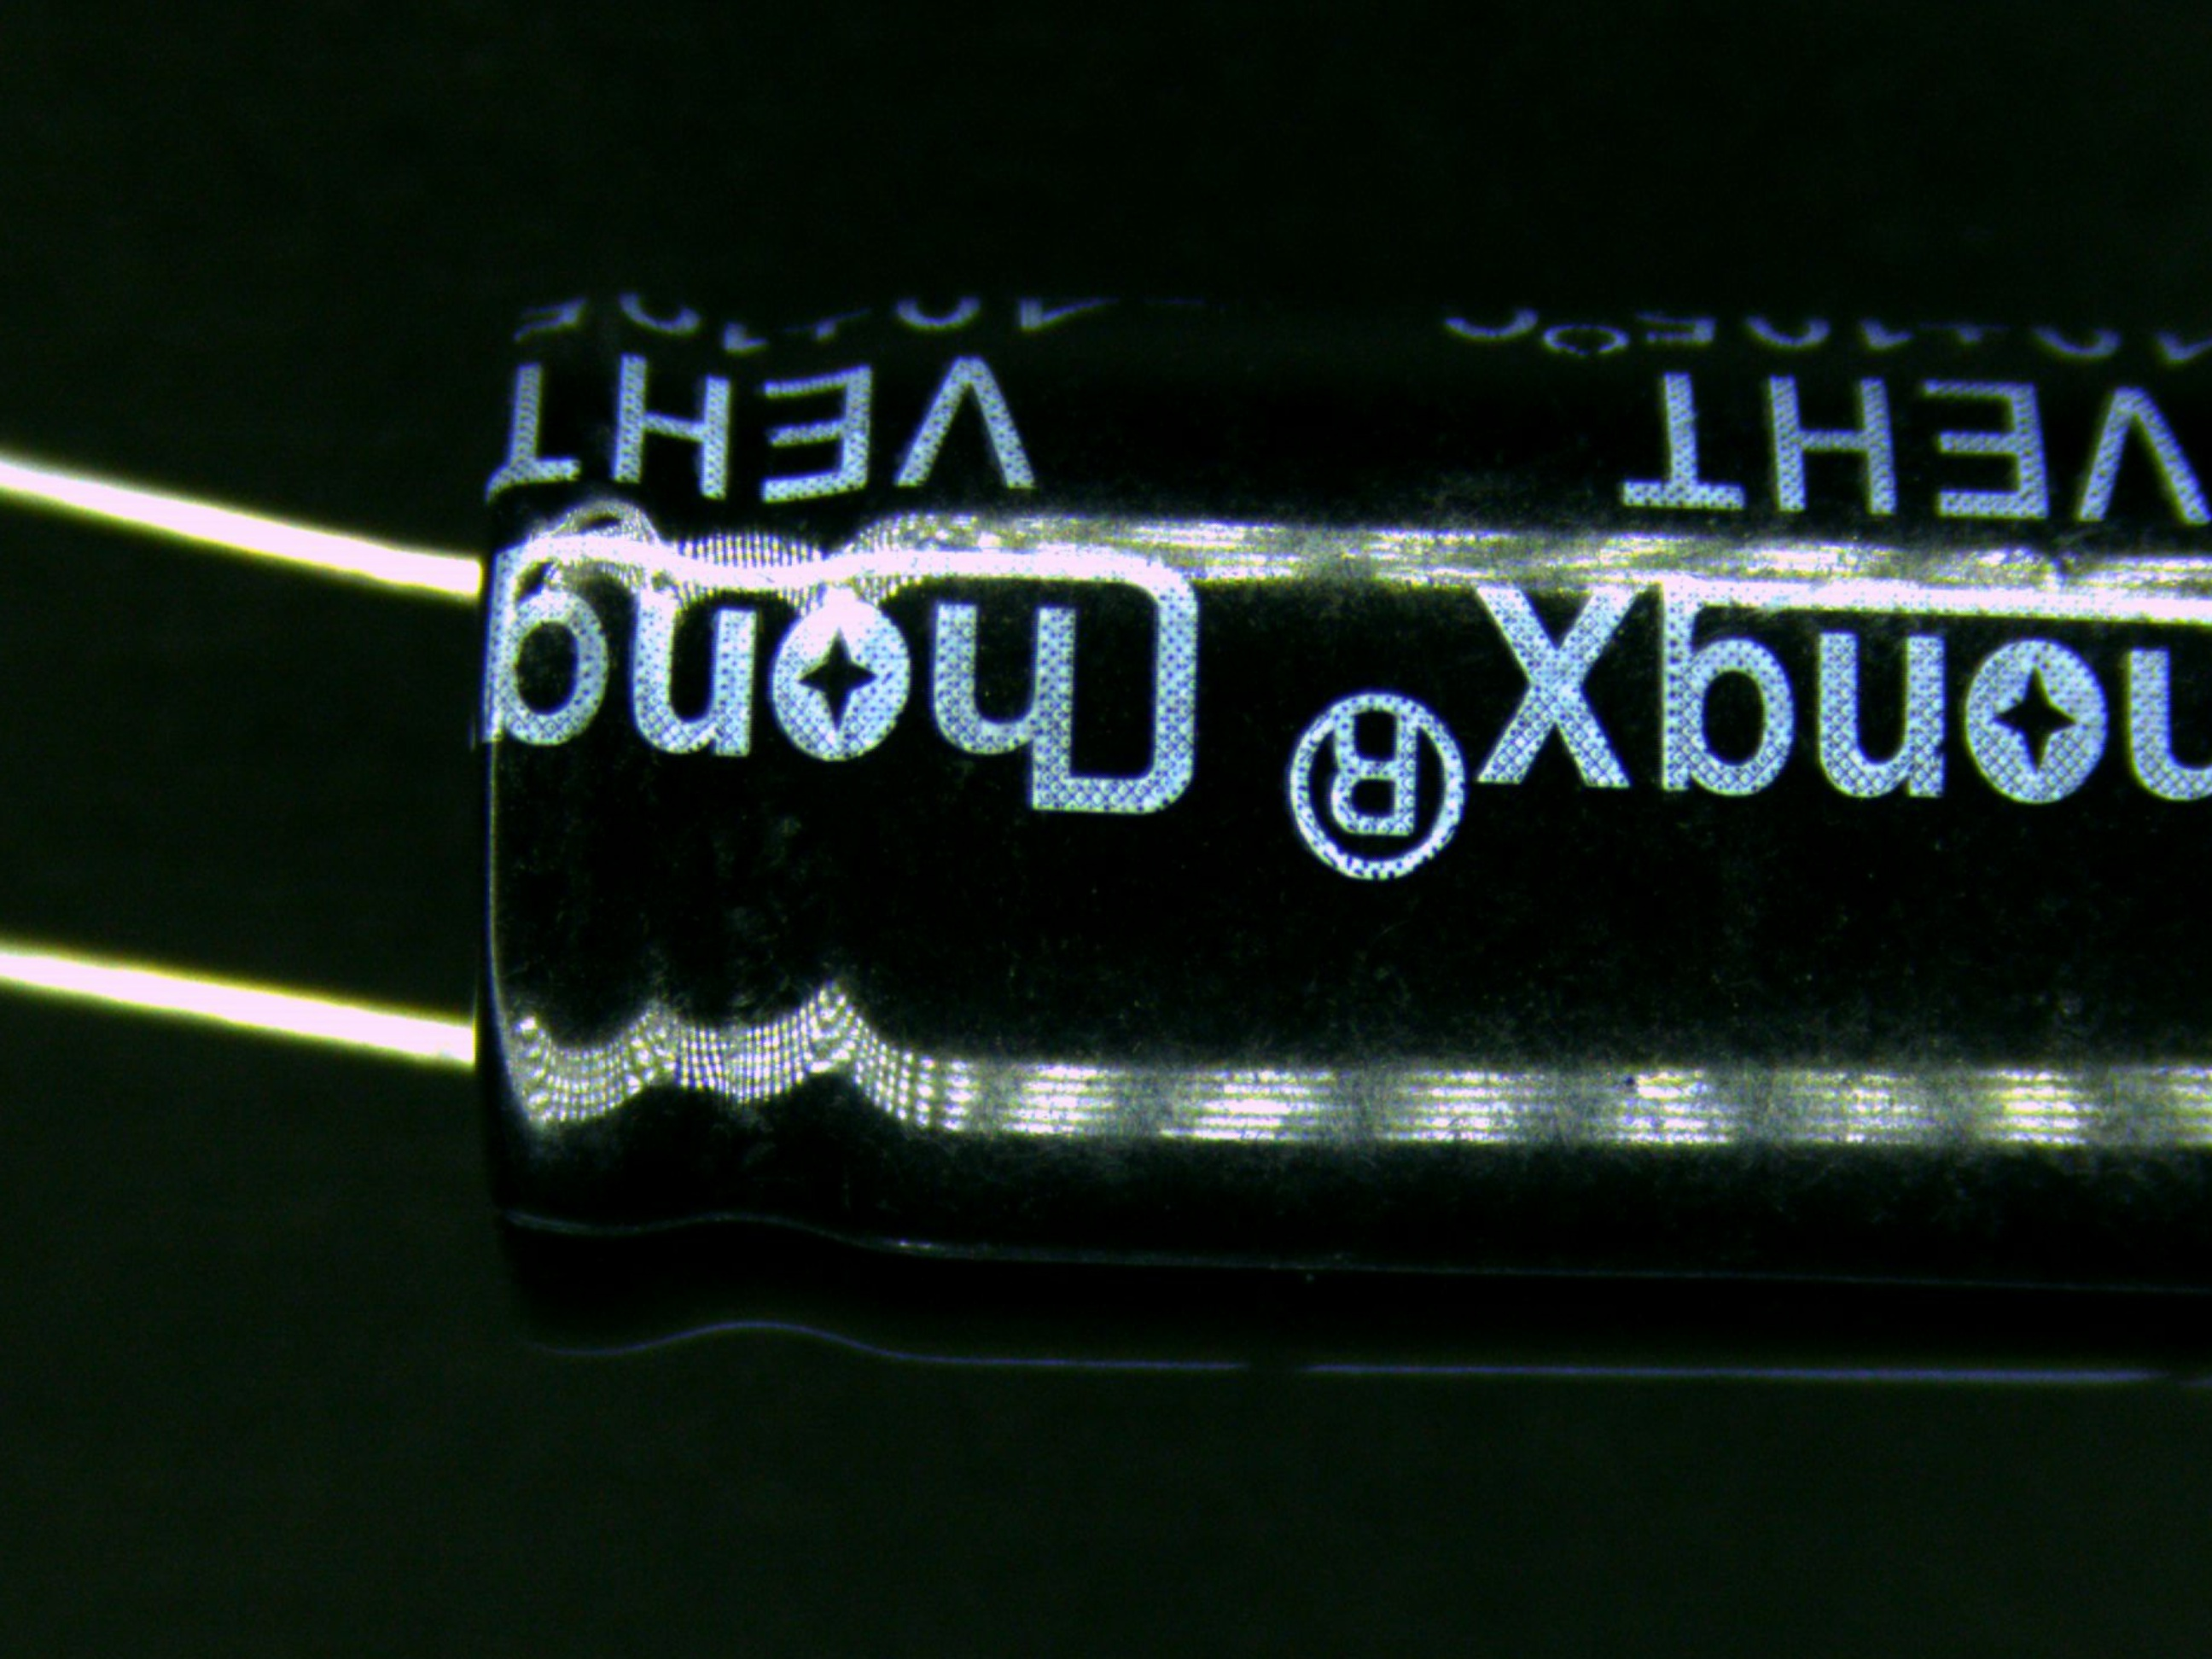c3: (118, 275, 2212, 1387)
